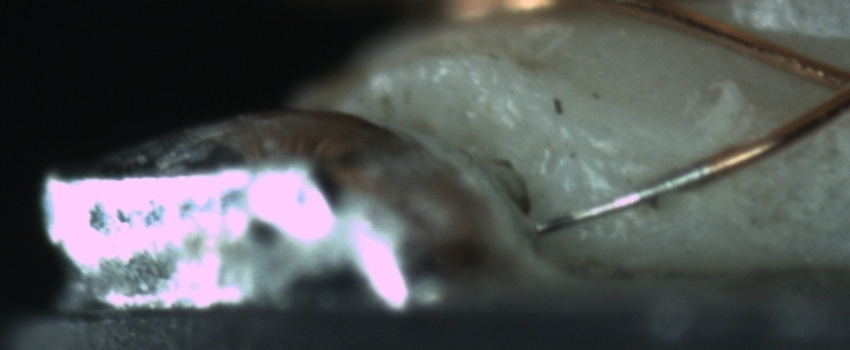CL: (804, 53, 850, 121)
TS: (530, 163, 706, 232)
